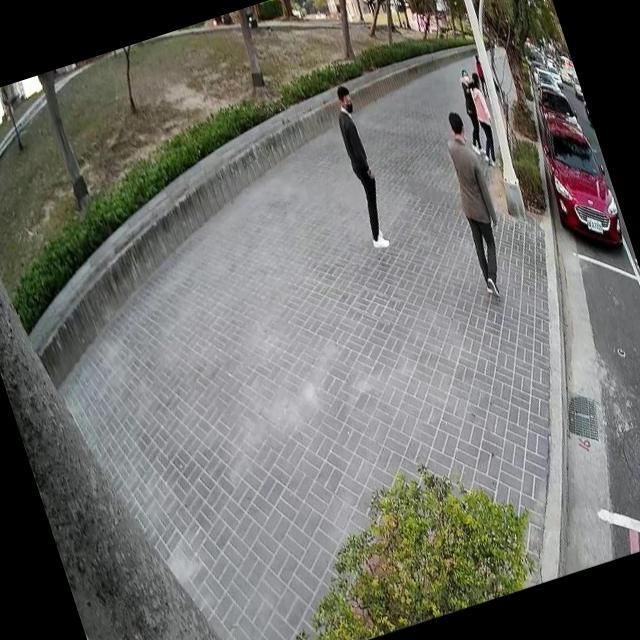person: (423, 103, 525, 310), (320, 77, 403, 252), (454, 65, 508, 171), (445, 64, 494, 158), (467, 49, 494, 102)
